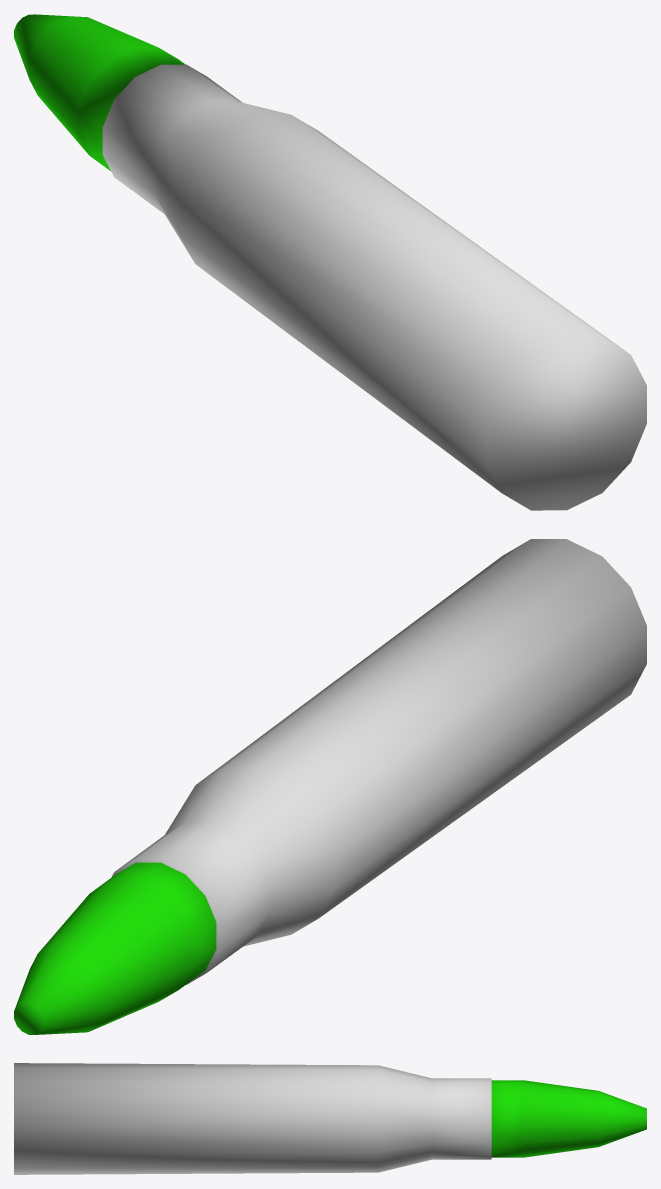
3 views of the same model, one above another, from view 1: azimuth 30°, elevation 25°; view 2: azimuth 150°, elevation 25°; view 3: azimuth 270°, elevation 25° (orthographic). The views are drawn at different scales.
Parts seen in each view (by area): view 1: Cube; view 2: Cube; view 3: Cube.
Part boxes in pixels (x1,y1,x2,y2): Cube: [14, 14, 646, 510]; Cube: [14, 539, 646, 1034]; Cube: [14, 1063, 646, 1174].
Bounding box in the file's own units: 0.0123 × 0.0126 × 0.0712.
